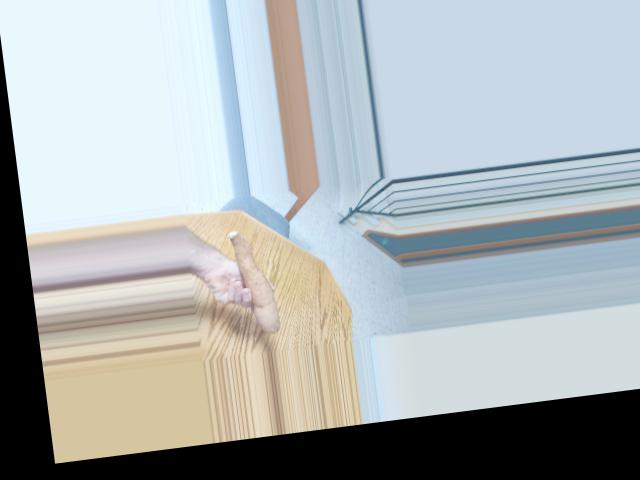sweet_potato: (226, 228, 287, 333)
